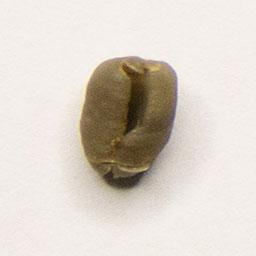peaberry: (76, 52, 180, 186)
